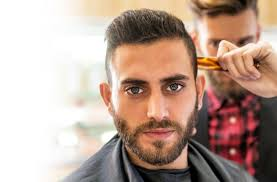face: (118, 74, 207, 167)
